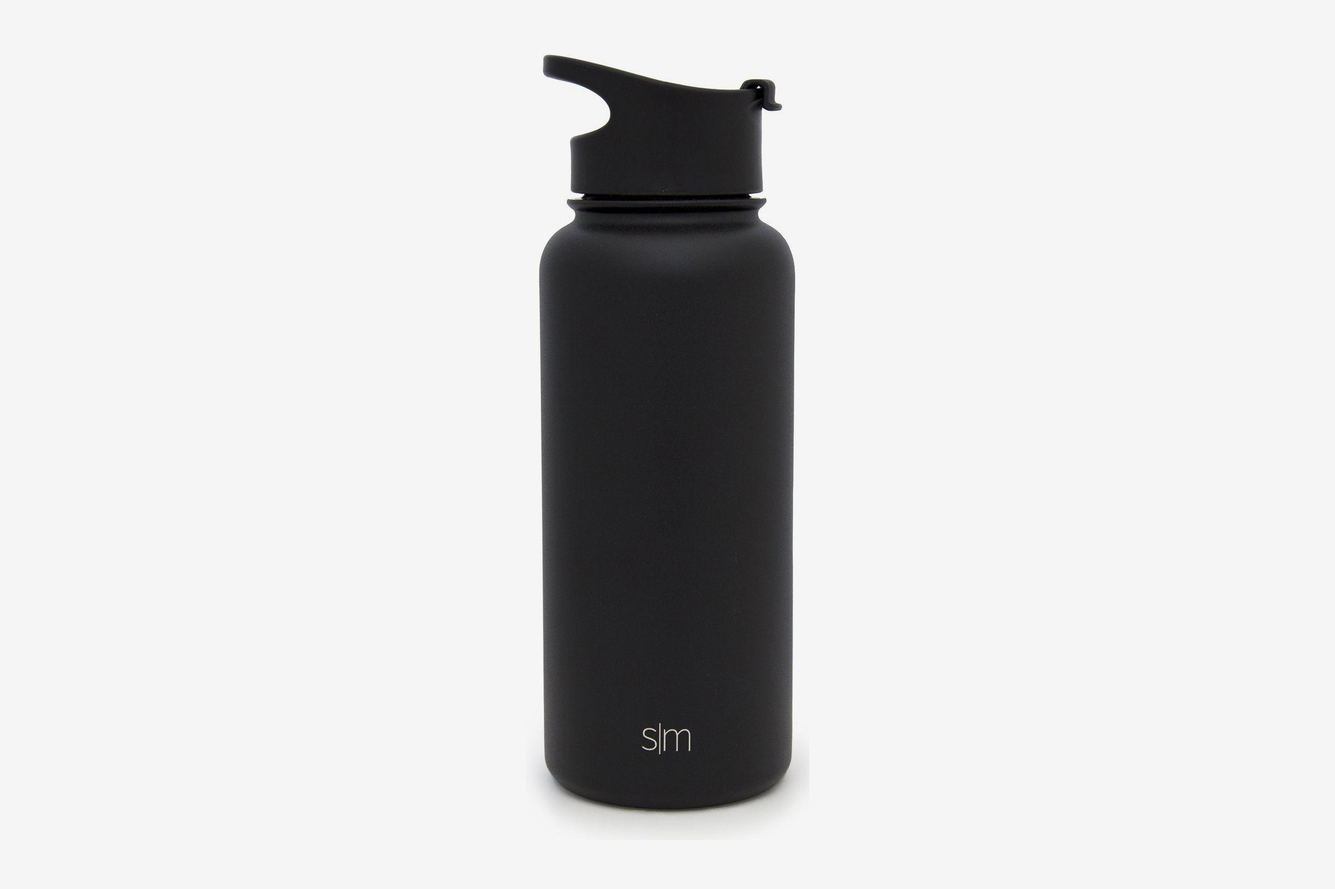gym bottle: (532, 38, 805, 814)
